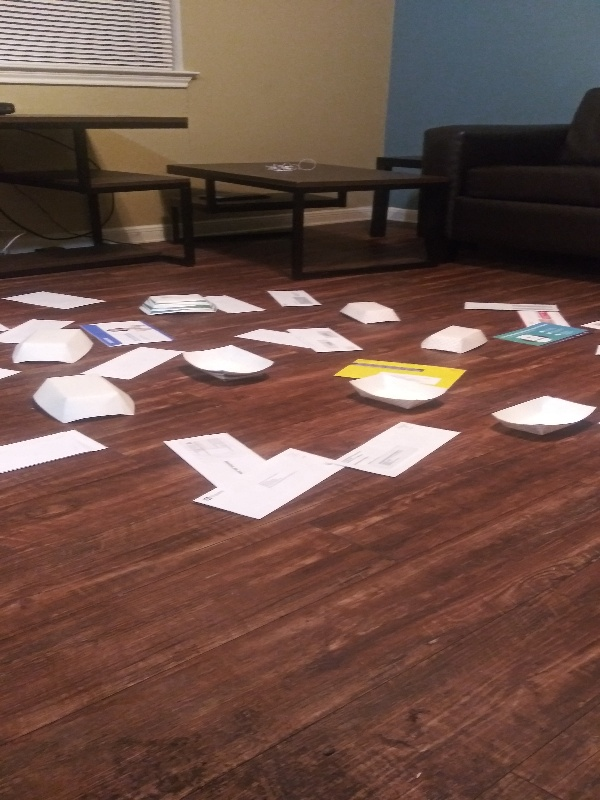plate: (30, 371, 140, 426), (488, 393, 600, 439), (347, 370, 453, 413), (178, 343, 278, 383), (10, 327, 96, 369), (139, 290, 220, 319), (414, 325, 490, 355), (337, 297, 405, 327)
